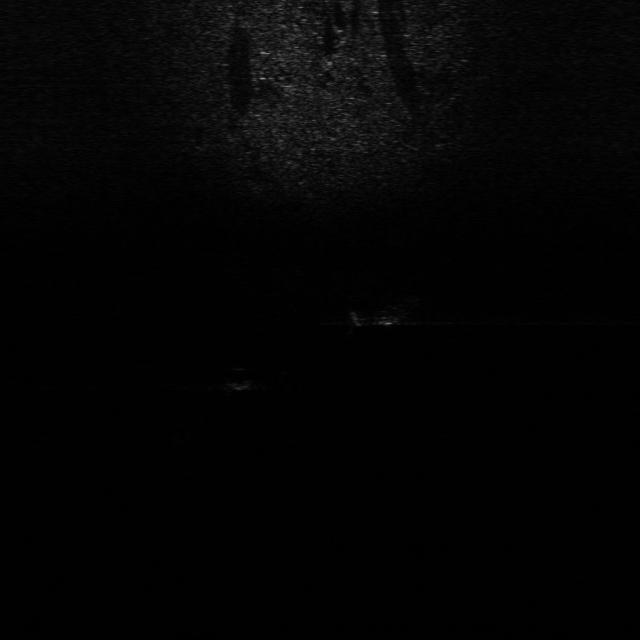ball: (224, 364, 258, 392)
human body: (342, 303, 418, 328)
